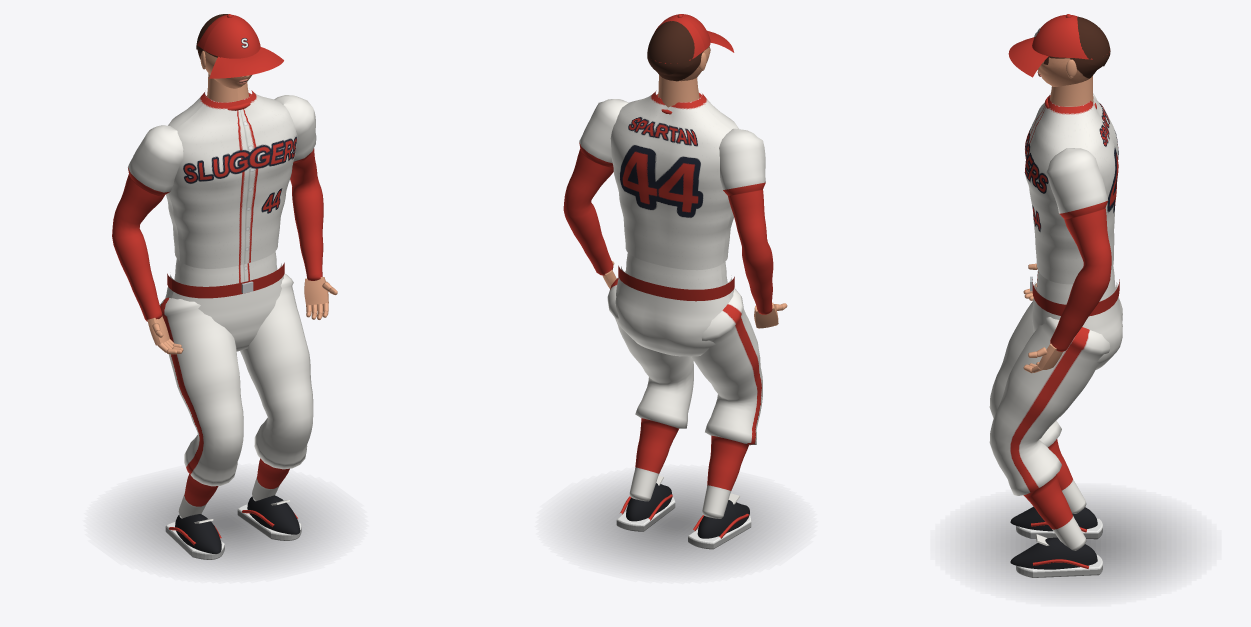
Rendered from player_25_home.glb.
3 views of the same model, side by side, from view 1: azimuth 30°, elevation 25°; view 2: azimuth 150°, elevation 25°; view 3: azimuth 270°, elevation 25° (orthographic). The views are drawn at different scales.
Parts seen in each view (by area): view 1: player_25_home, object 30, object 32, object 2; view 2: player_25_home, object 29, object 2, object 30; view 3: player_25_home, object 30, object 29, object 34, object 2, object 32.
Boxes of the visible parts, box(x1,y1,x2,y2) form: player_25_home: box(112, 90, 334, 569); object 30: box(197, 14, 260, 58); object 32: box(209, 47, 283, 78); object 2: box(207, 73, 248, 102); player_25_home: box(563, 90, 784, 569); object 29: box(647, 21, 709, 74); object 2: box(658, 75, 699, 107); object 30: box(655, 14, 710, 63); player_25_home: box(965, 93, 1186, 591); object 30: box(1032, 14, 1109, 59); object 29: box(1048, 16, 1110, 66); object 34: box(1037, 57, 1101, 86); object 2: box(1050, 76, 1093, 106); object 32: box(1008, 37, 1048, 77).
Size of the model in its own units: 3.5 by 6.46 by 3.5.
Materials: 27 (5 with a texture image).
